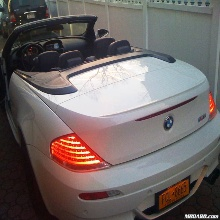no damage: (1, 15, 220, 219), (1, 1, 51, 37)
